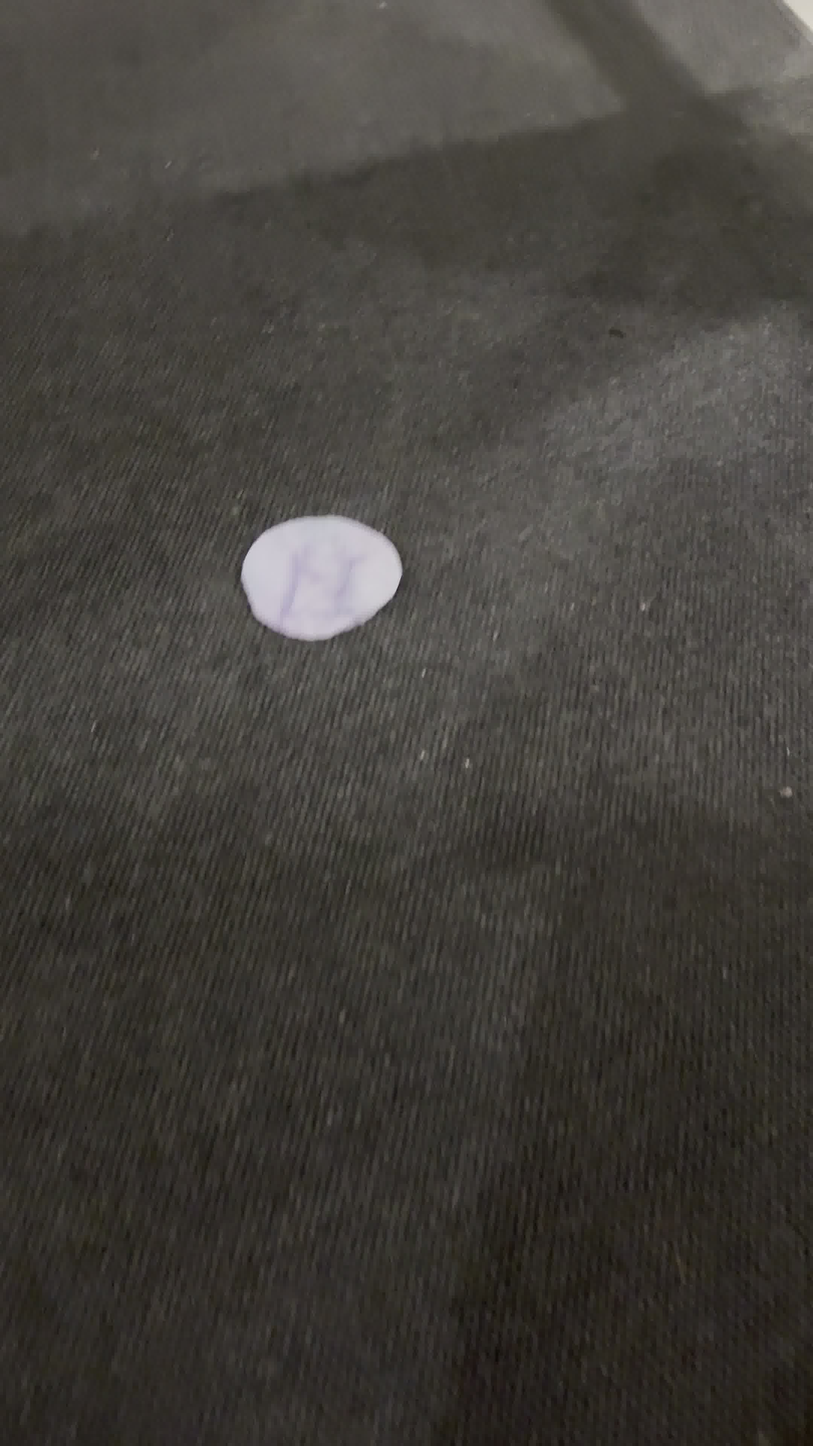Target: (241, 516, 402, 642)
